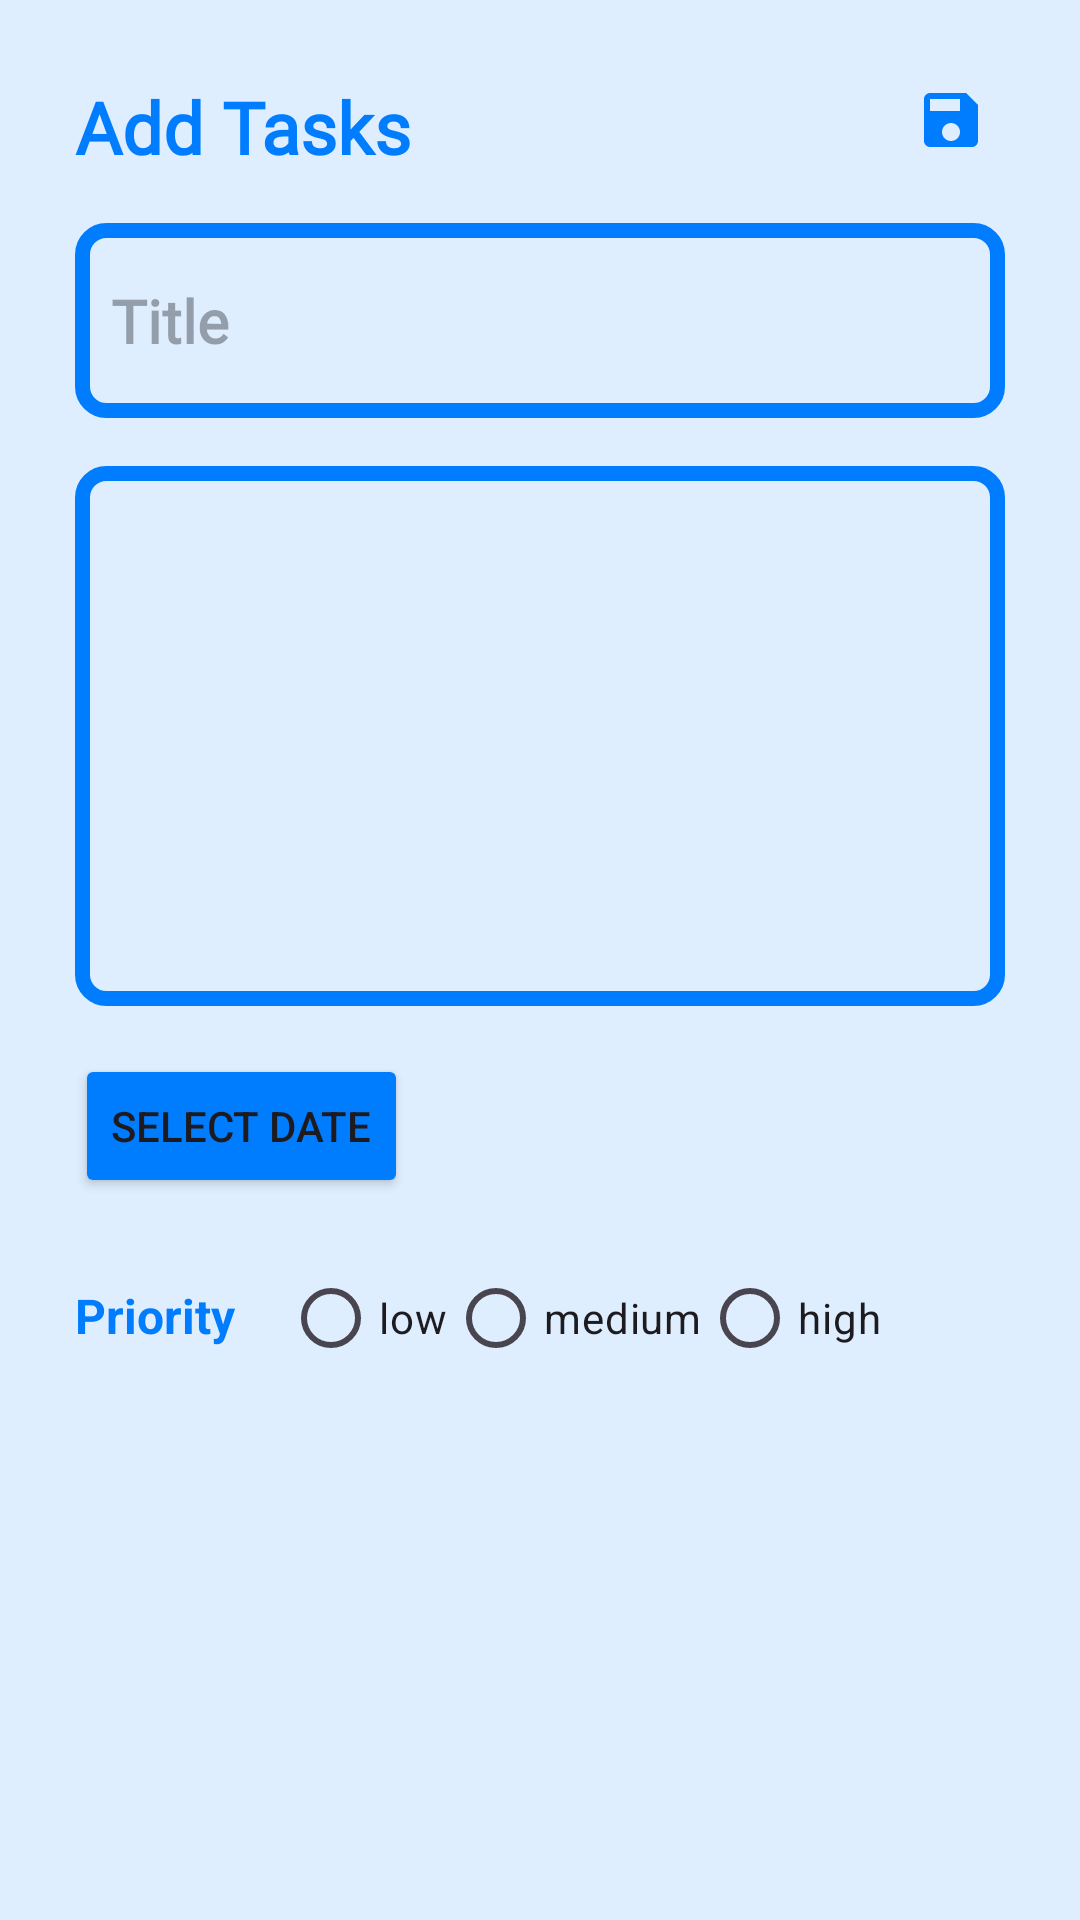

Where icons sit on this 1080x1920 app screen, as bbox(x1, y1, x2, y2):
save note: bbox(924, 93, 978, 147)
